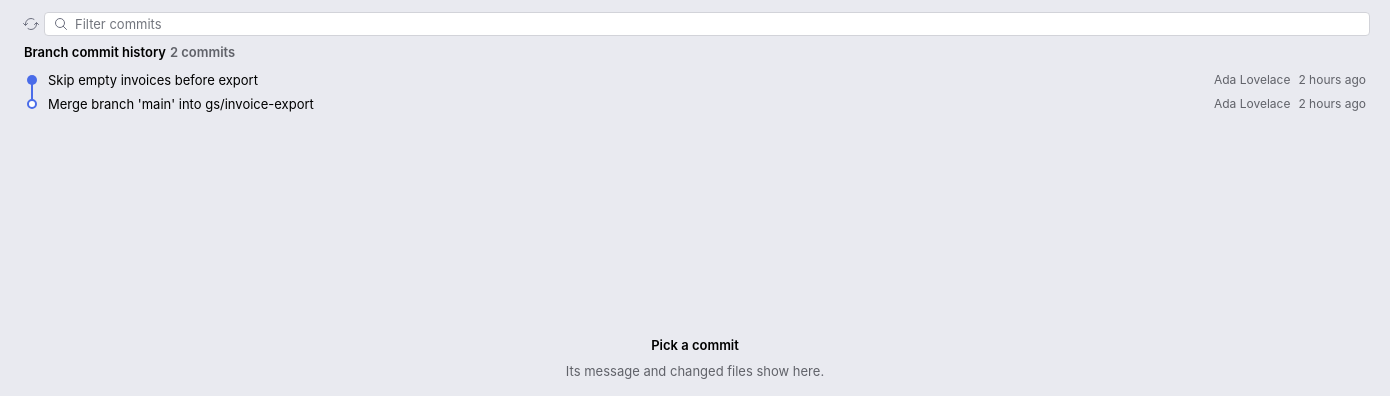
Test: BranchLogView › opens the commit menu from the keyboard and closes it on scroll
Click the option "Skip empty invoices before export" at (153, 80), box [20,68,1370,92]
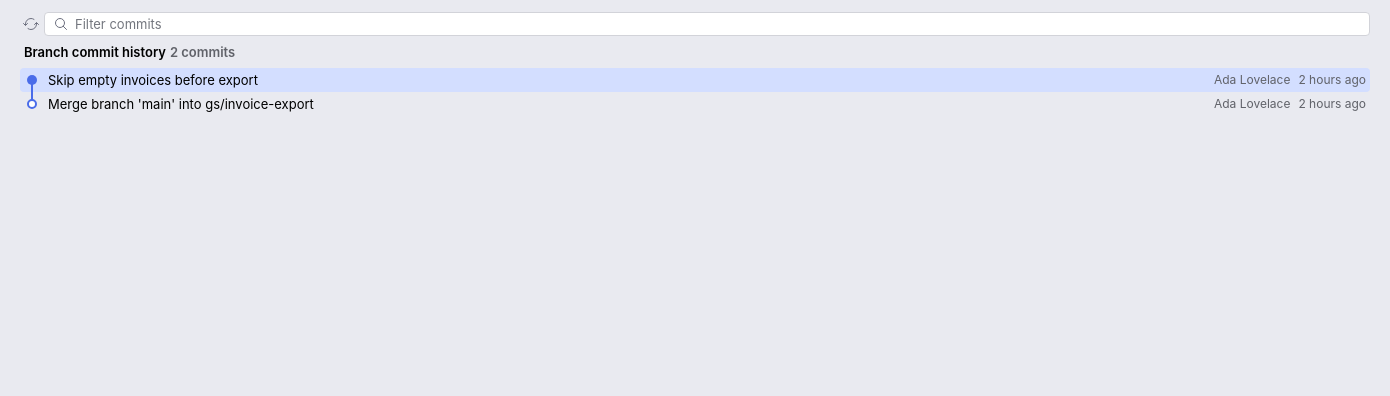
Press F10 in the list named "Branch commits", box [20,68,1370,112]
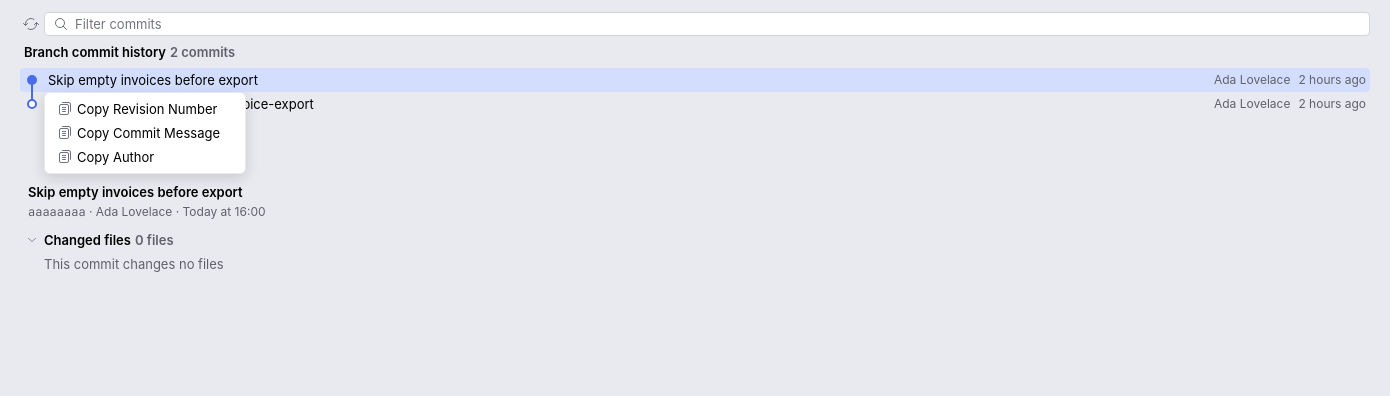
Result: the menu named "Commit actions" is shown at [44,92,246,174]
